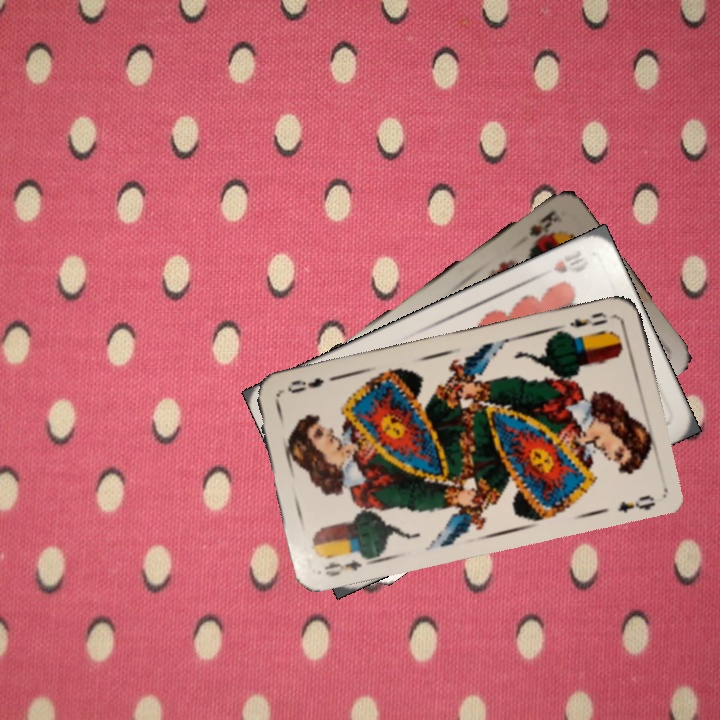EO: (320, 556, 365, 579), (566, 308, 610, 330)
H10: (549, 245, 586, 276)
SK: (525, 206, 562, 239)
